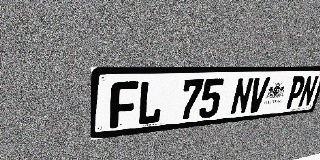5: (198, 78, 224, 119)
7: (177, 79, 204, 121)
F: (110, 81, 139, 129)
L: (136, 80, 165, 126)
N: (229, 77, 254, 115), (297, 75, 319, 108)
P: (284, 76, 307, 109)
V: (246, 77, 270, 113)
